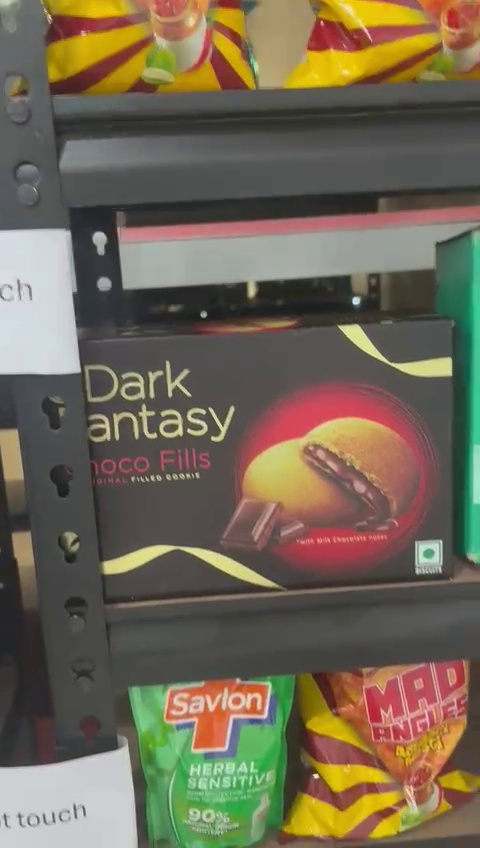Dark Fantasy: (81, 330, 468, 596)
